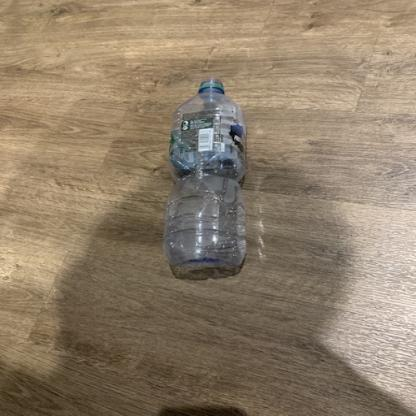trash: (163, 78, 249, 275)
